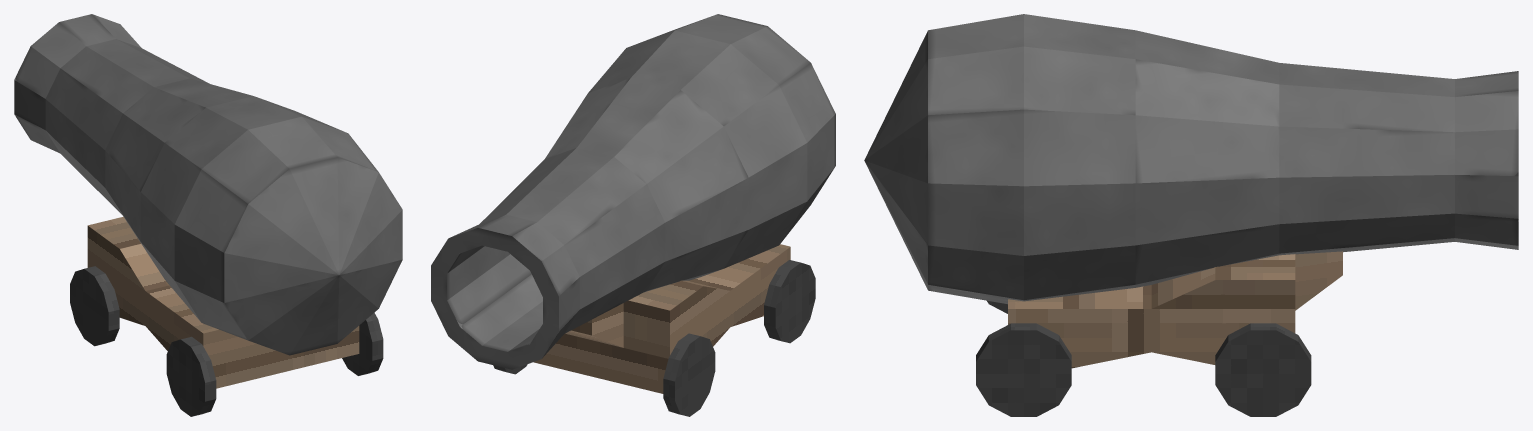
The model's file is Cannon.fbx.
3 views of the same model, side by side, from view 1: azimuth 30°, elevation 25°; view 2: azimuth 150°, elevation 25°; view 3: azimuth 270°, elevation 25° (orthographic). The views are drawn at different scales.
Parts seen in each view (by area): view 1: cylinder_4, cube, cylinder_3, cylinder_2, cylinder_1; view 2: cylinder_4, cube, cylinder_2, cylinder_3; view 3: cylinder_4, cube, cylinder, cylinder_1.
Part boxes in pixels (left/top/right/bottom): cylinder_4: left=14, top=14, right=402, bottom=355; cube: left=87, top=216, right=359, bottom=388; cylinder_3: left=166, top=336, right=216, bottom=416; cylinder_2: left=70, top=266, right=119, bottom=346; cylinder_1: left=342, top=312, right=383, bottom=375; cylinder_4: left=431, top=14, right=835, bottom=369; cube: left=533, top=244, right=790, bottom=393; cylinder_2: left=663, top=333, right=715, bottom=416; cylinder_3: left=764, top=260, right=815, bottom=343; cylinder_4: left=864, top=14, right=1518, bottom=304; cube: left=1008, top=251, right=1342, bottom=368; cylinder: left=1215, top=323, right=1311, bottom=416; cylinder_1: left=976, top=323, right=1071, bottom=416.
Size of the model in its own units: 112 by 144 by 256.
3 materials, 3 textured.
